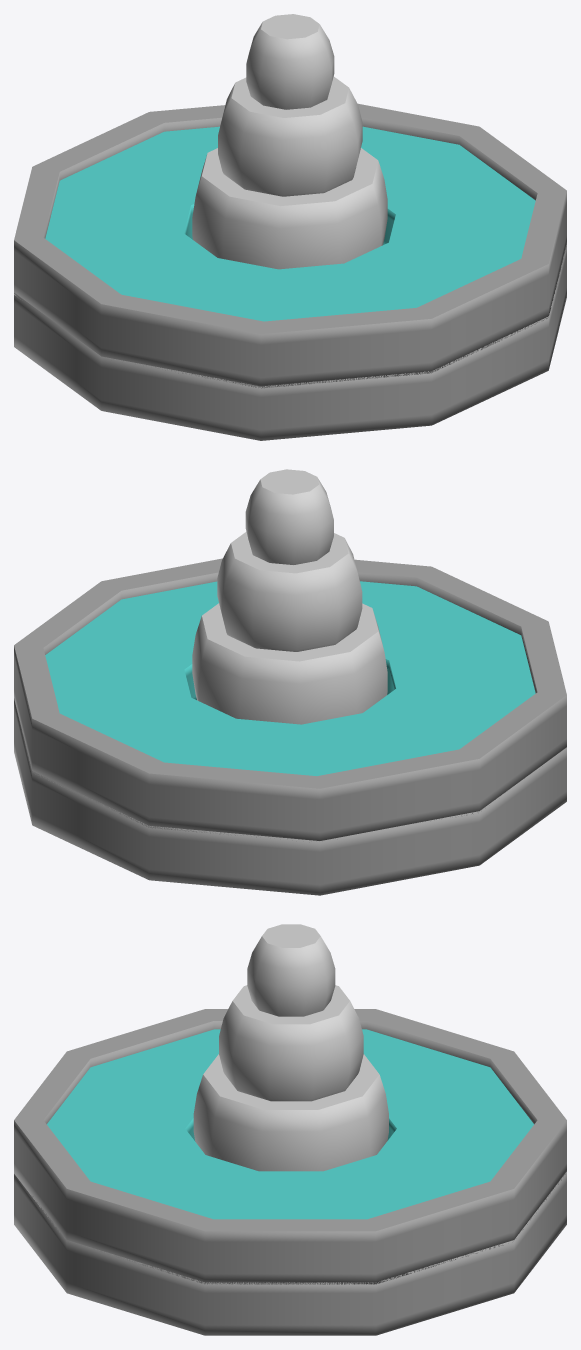
The model's file is brunnen.dae.
3 renders of one model, top to bottom at view 1: azimuth 30°, elevation 25°; view 2: azimuth 150°, elevation 25°; view 3: azimuth 270°, elevation 25°, orthographic. The views are drawn at different scales.
Visible parts, largest first — view 1: Tube005, Wasser, Tube001, Tube002, Tube003, Tube004; view 2: Tube005, Wasser, Tube001, Tube002, Tube003, Tube004; view 3: Tube005, Wasser, Tube001, Tube002, Tube003, Tube004.
Part boxes in pixels (box(x1,y1,x2,y2)): Tube005: box(14, 103, 566, 388); Wasser: box(45, 126, 535, 321); Tube001: box(14, 245, 566, 440); Tube002: box(192, 148, 387, 269); Tube003: box(218, 76, 362, 196); Tube004: box(246, 14, 334, 109); Tube005: box(14, 558, 566, 840); Wasser: box(45, 581, 535, 776); Tube001: box(14, 698, 566, 895); Tube002: box(192, 603, 387, 724); Tube003: box(217, 531, 362, 651); Tube004: box(245, 469, 333, 564); Tube005: box(14, 1009, 566, 1284); Wasser: box(47, 1029, 533, 1219); Tube001: box(14, 1172, 566, 1335); Tube002: box(193, 1054, 388, 1171); Tube003: box(219, 985, 363, 1101); Tube004: box(247, 924, 335, 1016).
Bounding box in the file's own units: 2.27 × 2.39 × 1.38.
